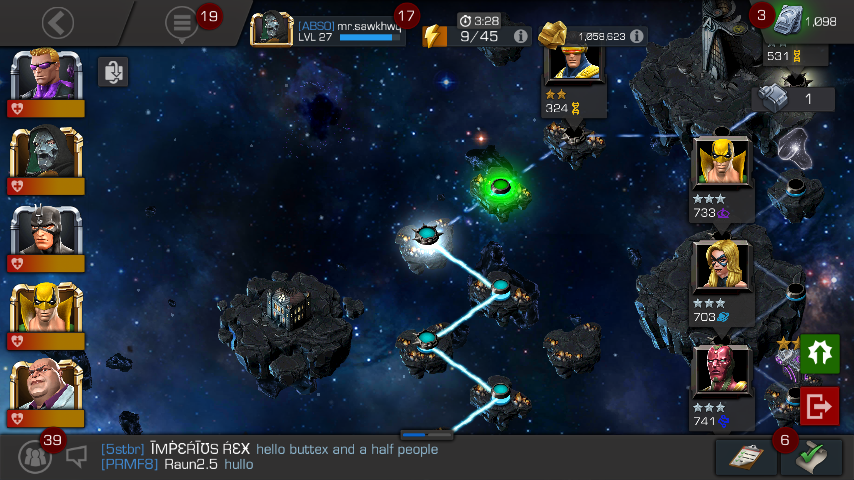green: (490, 179, 511, 194)
